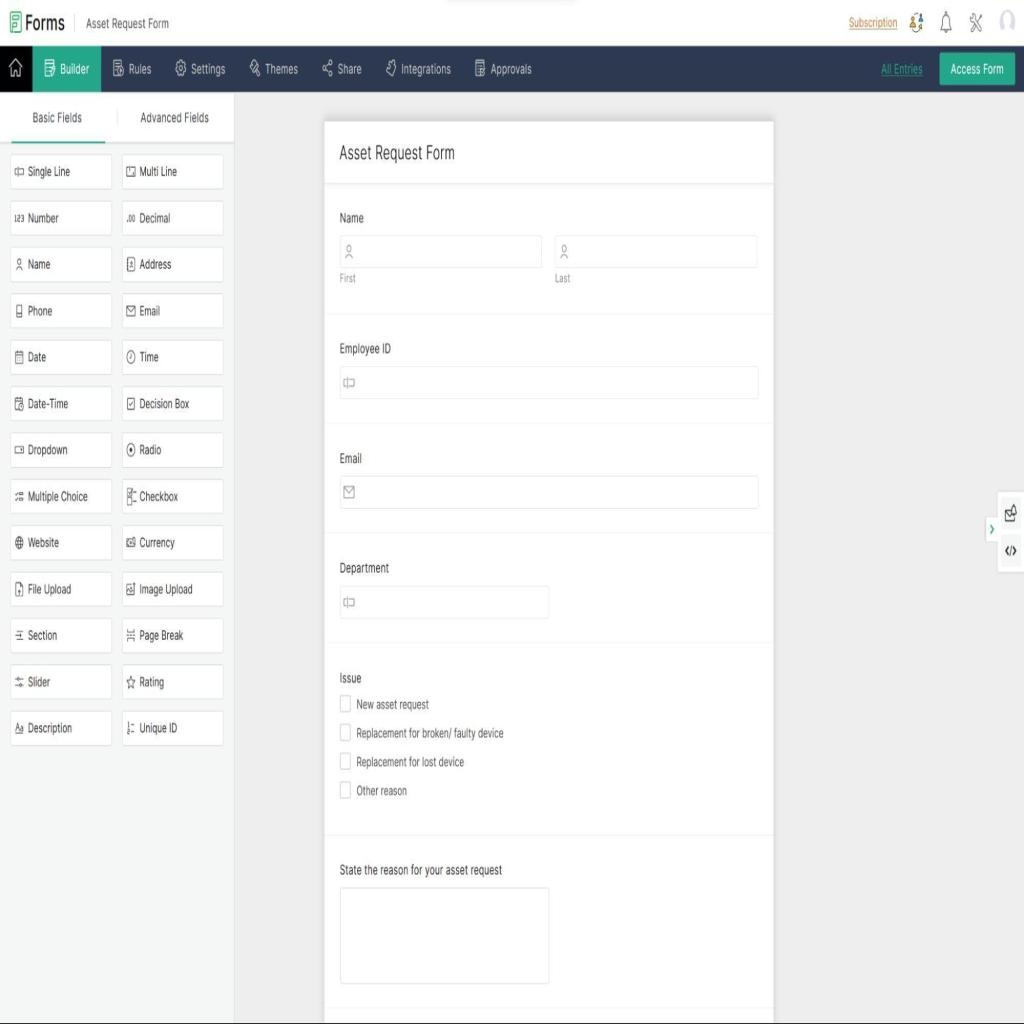button: (33, 46, 101, 92), (938, 52, 1017, 88)
checkbox: (339, 694, 352, 714), (339, 780, 352, 800), (339, 724, 352, 742), (339, 752, 351, 771), (126, 397, 135, 412)
icon: (910, 11, 924, 37), (968, 13, 984, 35), (384, 56, 398, 80), (472, 58, 486, 80), (9, 58, 23, 79), (940, 10, 952, 34), (324, 57, 336, 81), (249, 57, 262, 79), (112, 57, 125, 78), (126, 486, 138, 508), (174, 59, 187, 79), (124, 719, 136, 739), (125, 164, 138, 182), (14, 350, 27, 368), (13, 579, 24, 599), (125, 256, 137, 274), (126, 581, 138, 599), (125, 628, 138, 644), (14, 256, 24, 276), (125, 303, 137, 319), (14, 164, 26, 179), (126, 348, 136, 366), (14, 535, 26, 550), (15, 626, 25, 644), (14, 396, 24, 412), (14, 720, 24, 736), (127, 675, 136, 692), (14, 490, 24, 505), (14, 443, 24, 457), (126, 536, 136, 550), (14, 212, 25, 224), (15, 304, 23, 320), (14, 672, 22, 686), (126, 213, 136, 224)
input: (340, 366, 759, 400), (340, 477, 759, 510), (339, 584, 551, 622), (339, 232, 542, 268), (555, 236, 758, 269)
label: (340, 862, 504, 877), (356, 726, 504, 741), (357, 756, 464, 770), (139, 109, 215, 126), (27, 488, 90, 507), (138, 581, 194, 598), (400, 60, 452, 78), (31, 108, 83, 125), (357, 698, 429, 710), (138, 718, 181, 738), (138, 396, 190, 412), (340, 341, 391, 357), (489, 62, 532, 80), (28, 162, 71, 180), (26, 582, 73, 598), (140, 627, 184, 644), (26, 442, 67, 460), (28, 720, 72, 736), (340, 561, 390, 575), (265, 58, 299, 78), (138, 163, 177, 179), (27, 397, 70, 411), (357, 785, 407, 797), (139, 489, 179, 504), (190, 62, 226, 78), (27, 211, 63, 227), (141, 210, 173, 228), (139, 534, 175, 550), (138, 439, 166, 459), (139, 256, 172, 272), (29, 533, 59, 550), (28, 626, 58, 643), (339, 210, 364, 227), (338, 61, 363, 78), (27, 303, 52, 320), (139, 675, 165, 691), (339, 451, 363, 466), (128, 62, 152, 77), (29, 674, 51, 690), (139, 302, 161, 317), (141, 349, 160, 365), (28, 352, 48, 366), (339, 672, 362, 684), (28, 258, 51, 270)
radio: (127, 442, 135, 459)
